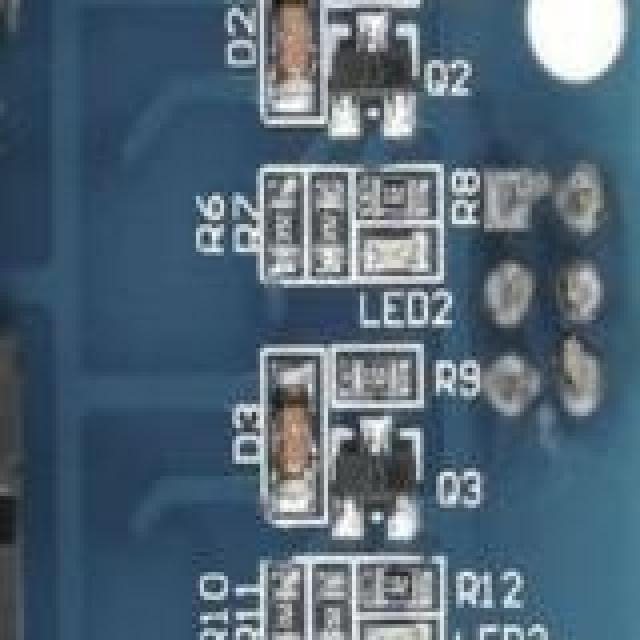LED: (348, 236, 442, 286), (352, 628, 444, 640)
diode: (264, 376, 314, 504), (272, 0, 320, 108)
relay: (0, 328, 24, 640), (0, 0, 12, 16)
resistor: (340, 344, 410, 404), (268, 172, 306, 270), (312, 160, 346, 268), (360, 564, 438, 608), (364, 176, 432, 224), (308, 560, 348, 640), (256, 564, 296, 640), (328, 0, 412, 4)
transistor: (324, 424, 420, 522), (336, 24, 412, 138)
